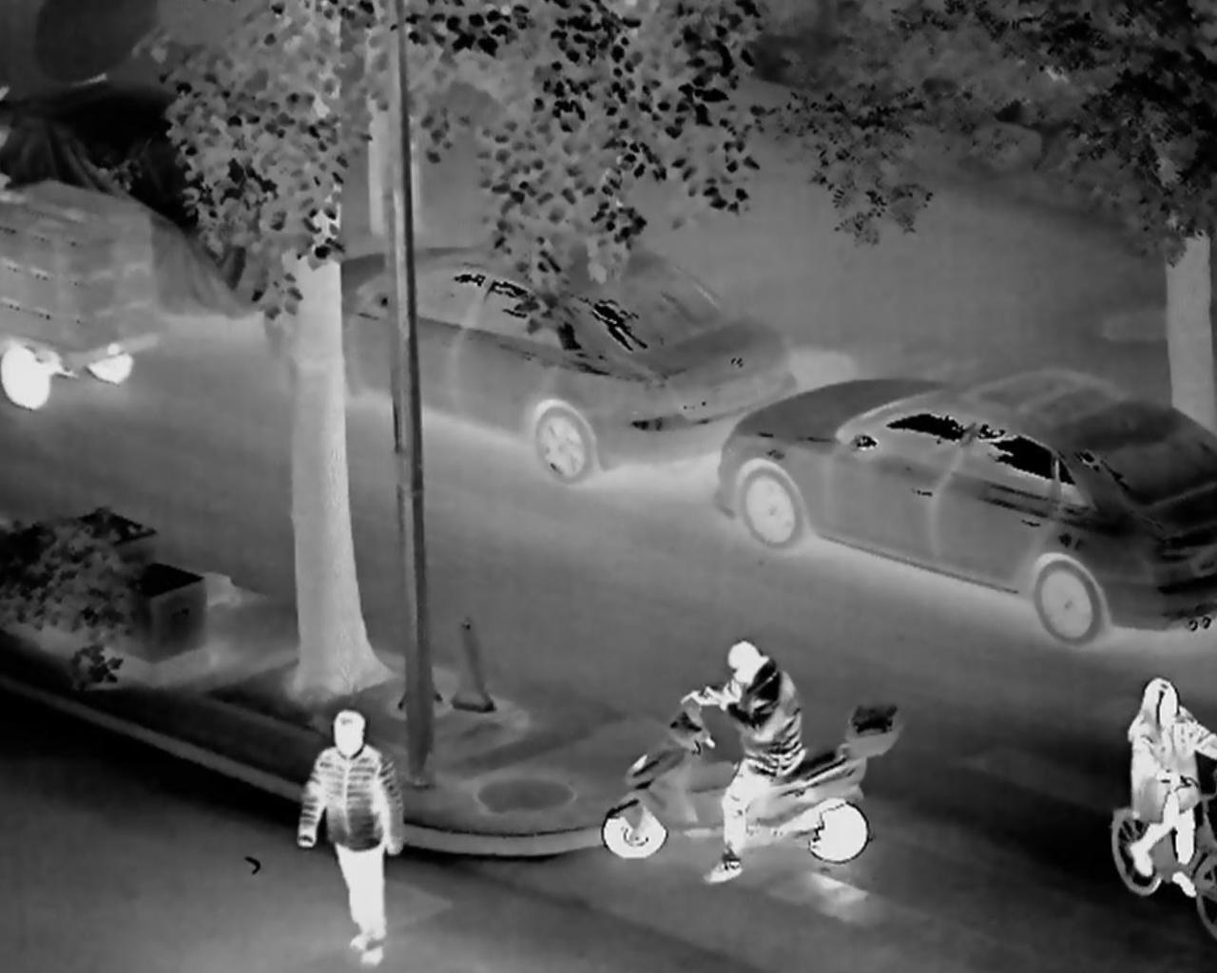person: (294, 702, 434, 972), (671, 628, 814, 892), (1099, 660, 1217, 897)
